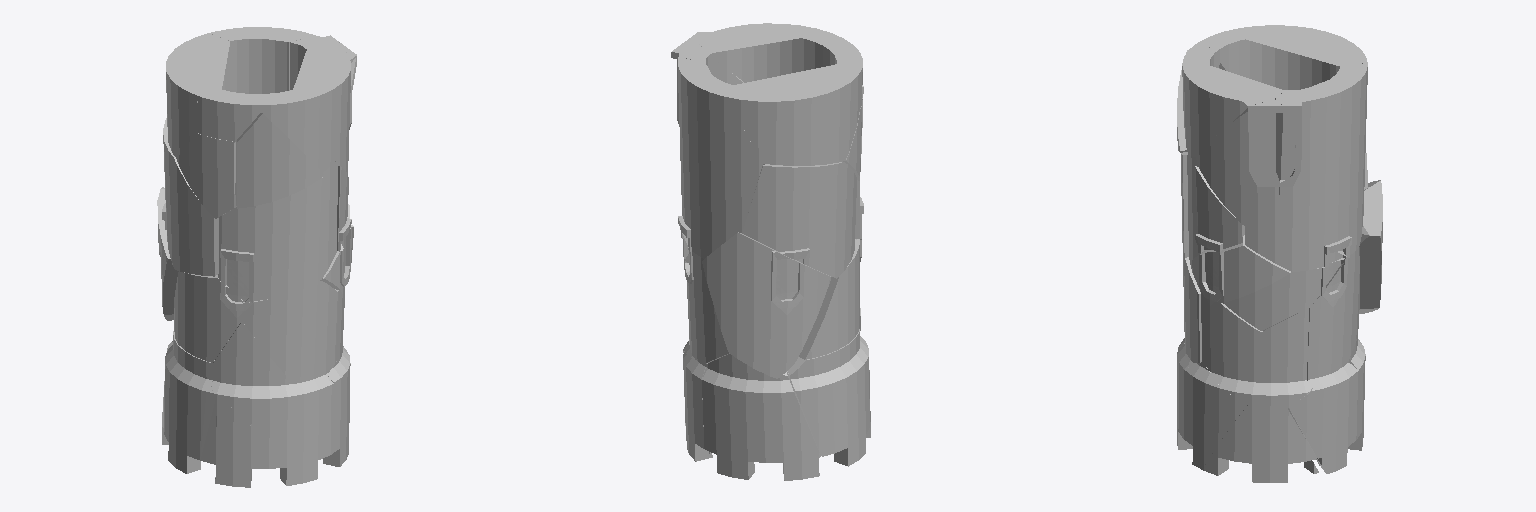
File: destruction_tower_000014.obj
The picture shows the model from 3 angles: view 1: azimuth 30°, elevation 25°; view 2: azimuth 150°, elevation 25°; view 3: azimuth 270°, elevation 25°; orthographic projection.
Parts seen in each view (by area): view 1: tower.001_cell.024_Mesh.024, tower.001_cell.028_Mesh.028, tower.001_cell.021_Mesh.021, tower.001_cell.006_Mesh.006, tower.001_cell.011_Mesh.011, tower.001_cell.002_Mesh.002, tower.001_cell.013_Mesh.013, tower.001_cell.015_Mesh.015, tower.001_cell.003_Mesh.003, tower.001_cell.009_Mesh.009, tower.001_cell.017_Mesh.017, tower.001_cell.014_Mesh.014 (+10 smaller); view 2: tower.001_cell.025_Mesh.025, tower.001_cell.017_Mesh.017, tower.001_cell.007_Mesh.007, tower.001_cell.015_Mesh.015, tower.001_cell.003_Mesh.003, tower.001_cell.028_Mesh.028, tower.001_cell.005_Mesh.005, tower.001_cell.009_Mesh.009, tower.001_cell.012_Mesh.012, tower.001_cell.029_Mesh.029, tower.001_cell.006_Mesh.006, tower.001_cell.026_Mesh.026 (+2 smaller); view 3: tower.001_cell.017_Mesh.017, tower.001_cell.020_Mesh.020, tower.001_cell.015_Mesh.015, tower.001_cell.028_Mesh.028, tower.001_cell.030_Mesh.030, tower.001_cell.012_Mesh.012, tower.001_cell.029_Mesh.029, tower.001_cell_Mesh, tower.001_cell.016_Mesh.016, tower.001_cell.010_Mesh.010, tower.001_cell.023_Mesh.023, tower.001_cell.026_Mesh.026 (+10 smaller).
Part boxes in pixels (left/top/right/bottom): tower.001_cell.024_Mesh.024: left=218, top=177, right=323, bottom=302; tower.001_cell.028_Mesh.028: left=254, top=49, right=356, bottom=172; tower.001_cell.021_Mesh.021: left=242, top=281, right=338, bottom=385; tower.001_cell.006_Mesh.006: left=167, top=389, right=259, bottom=487; tower.001_cell.011_Mesh.011: left=260, top=377, right=333, bottom=485; tower.001_cell.002_Mesh.002: left=235, top=113, right=323, bottom=208; tower.001_cell.013_Mesh.013: left=211, top=322, right=294, bottom=434; tower.001_cell.015_Mesh.015: left=166, top=33, right=229, bottom=158; tower.001_cell.003_Mesh.003: left=162, top=118, right=218, bottom=276; tower.001_cell.009_Mesh.009: left=174, top=271, right=242, bottom=362; tower.001_cell.017_Mesh.017: left=210, top=27, right=315, bottom=193; tower.001_cell.014_Mesh.014: left=177, top=133, right=234, bottom=218; tower.001_cell.025_Mesh.025: left=702, top=232, right=830, bottom=378; tower.001_cell.017_Mesh.017: left=678, top=57, right=764, bottom=258; tower.001_cell.007_Mesh.007: left=702, top=354, right=820, bottom=480; tower.001_cell.015_Mesh.015: left=728, top=64, right=860, bottom=165; tower.001_cell.003_Mesh.003: left=742, top=162, right=856, bottom=278; tower.001_cell.028_Mesh.028: left=698, top=23, right=847, bottom=82; tower.001_cell.005_Mesh.005: left=788, top=329, right=868, bottom=456; tower.001_cell.009_Mesh.009: left=799, top=239, right=861, bottom=359; tower.001_cell.012_Mesh.012: left=684, top=251, right=729, bottom=363; tower.001_cell.029_Mesh.029: left=683, top=352, right=709, bottom=461; tower.001_cell.006_Mesh.006: left=834, top=349, right=870, bottom=466; tower.001_cell.026_Mesh.026: left=671, top=45, right=721, bottom=123; tower.001_cell.017_Mesh.017: left=1309, top=63, right=1367, bottom=257; tower.001_cell.020_Mesh.020: left=1196, top=99, right=1282, bottom=226; tower.001_cell.015_Mesh.015: left=1245, top=25, right=1367, bottom=89; tower.001_cell.028_Mesh.028: left=1182, top=46, right=1284, bottom=156; tower.001_cell.030_Mesh.030: left=1203, top=403, right=1316, bottom=482; tower.001_cell.012_Mesh.012: left=1308, top=248, right=1359, bottom=388; tower.001_cell.029_Mesh.029: left=1289, top=361, right=1357, bottom=473; tower.001_cell_Mesh: left=1201, top=294, right=1262, bottom=403; tower.001_cell.016_Mesh.016: left=1257, top=308, right=1310, bottom=408; tower.001_cell.010_Mesh.010: left=1190, top=235, right=1290, bottom=302; tower.001_cell.023_Mesh.023: left=1186, top=362, right=1247, bottom=469; tower.001_cell.026_Mesh.026: left=1275, top=88, right=1308, bottom=227.
Size of the model in its own units: 45.48 by 97.33 by 47.63.